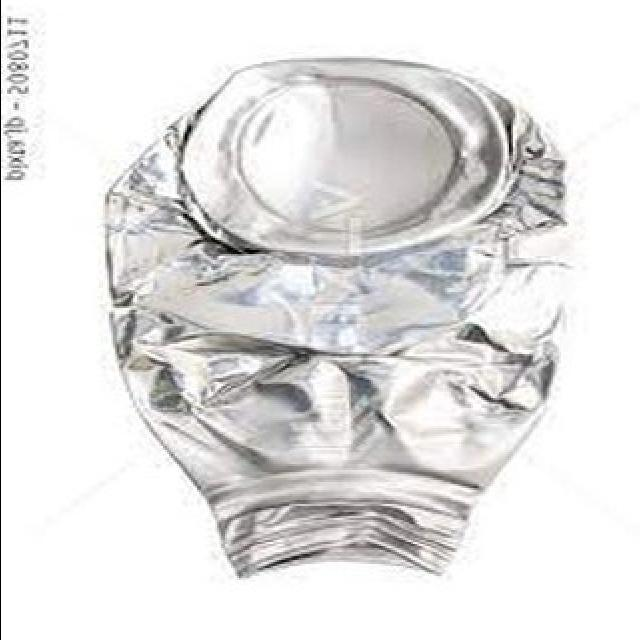can: (100, 46, 576, 581)
